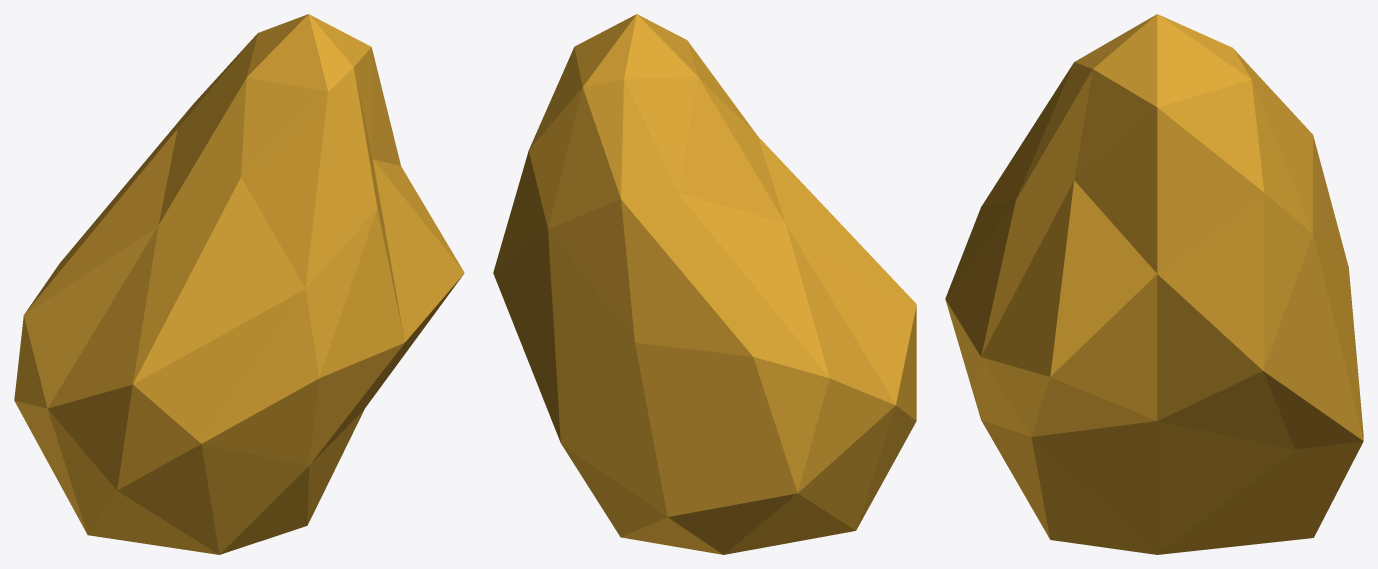
3 views of the same model, side by side, from view 1: azimuth 30°, elevation 25°; view 2: azimuth 150°, elevation 25°; view 3: azimuth 270°, elevation 25° (orthographic). The views are drawn at different scales.
Visible parts, largest first — view 1: GeoSphere008; view 2: GeoSphere008; view 3: GeoSphere008.
Part boxes in pixels (x1=…): GeoSphere008: x1=14, y1=14, x2=464, y2=554; GeoSphere008: x1=493, y1=14, x2=916, y2=554; GeoSphere008: x1=945, y1=14, x2=1363, y2=554.
Bounding box in the file's own units: 17.73 × 21.31 × 14.61.
